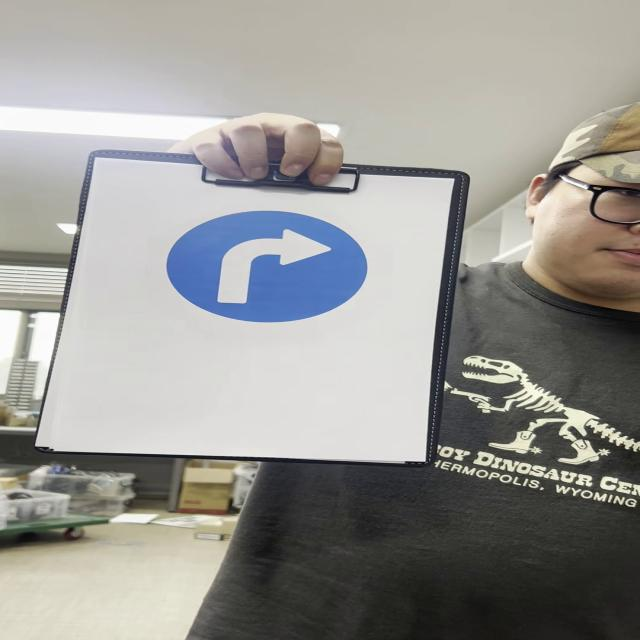right: (166, 213, 368, 325)
